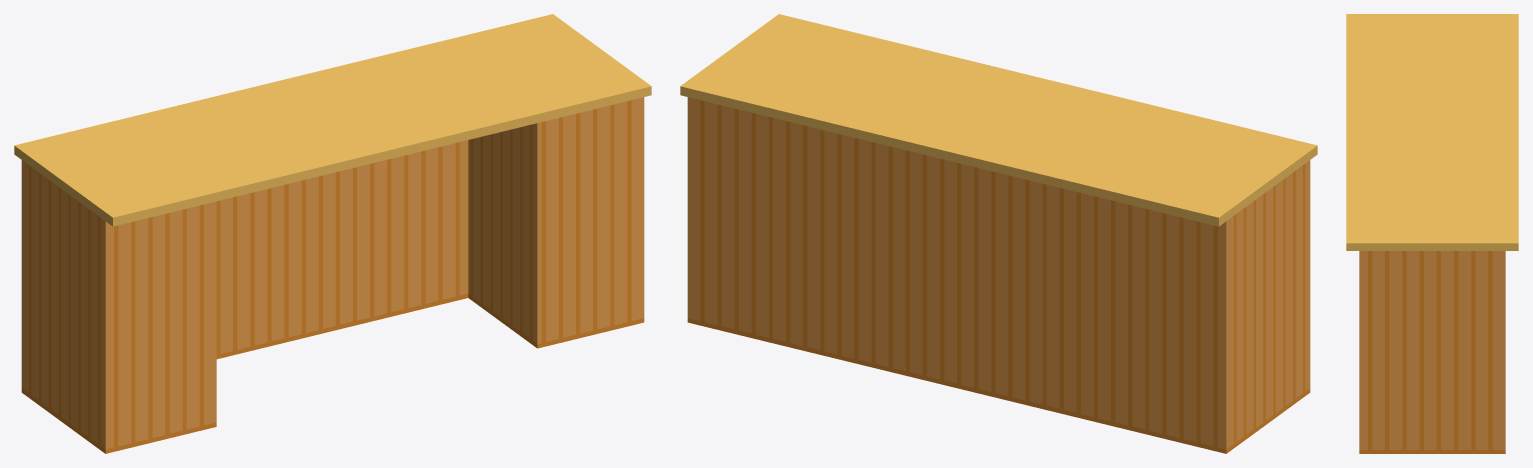
Rendered from kaunta-.fbx.
3 renders of one model, left to right at view 1: azimuth 30°, elevation 25°; view 2: azimuth 150°, elevation 25°; view 3: azimuth 270°, elevation 25°, orthographic. The views are drawn at different scales.
Visible parts, largest first — view 1: ObjObject; view 2: ObjObject; view 3: ObjObject.
Part boxes in pixels (<box>): ObjObject: <box>14,14,651,453</box>; ObjObject: <box>680,14,1317,453</box>; ObjObject: <box>1346,14,1518,453</box>.
Bounding box in the file's own units: 1260 × 540 × 400.
1 material, 1 textured.
